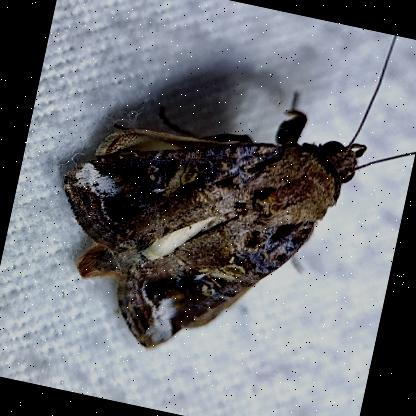Fall Armyworm Moth: (28, 0, 416, 399)
